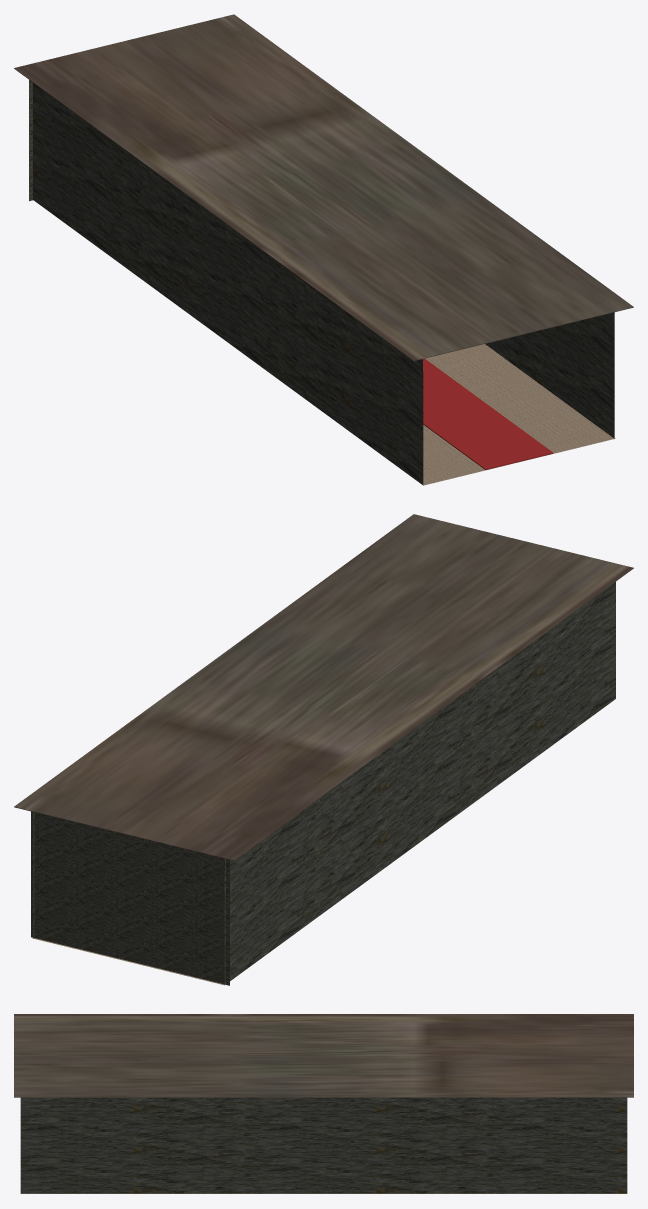
The model's file is portfolio.glb.
The picture shows the model from 3 angles, top to bottom: view 1: azimuth 30°, elevation 25°; view 2: azimuth 150°, elevation 25°; view 3: azimuth 270°, elevation 25°; orthographic projection. The views are drawn at different scales.
Parts seen in each view (by area): view 1: Roof, Plane.002, Plane, Plane.001, Carpet; view 2: Roof, Plane.002, Plane.003; view 3: Plane.001, Roof, Plane.
Part boxes in pixels (bbox=[...]): Roof: bbox=[14, 14, 633, 360]; Plane.002: bbox=[33, 83, 423, 484]; Plane: bbox=[36, 202, 615, 485]; Plane.001: bbox=[225, 22, 614, 438]; Carpet: bbox=[423, 358, 553, 469]; Roof: bbox=[14, 514, 633, 860]; Plane.002: bbox=[224, 582, 615, 984]; Plane.003: bbox=[31, 811, 229, 985]; Plane.001: bbox=[20, 1097, 627, 1193]; Roof: bbox=[14, 1014, 633, 1097]; Plane: bbox=[21, 1193, 626, 1193].
Size of the model in its own units: 11.7 by 6.74 by 36.8.
28 materials, 16 textured.
